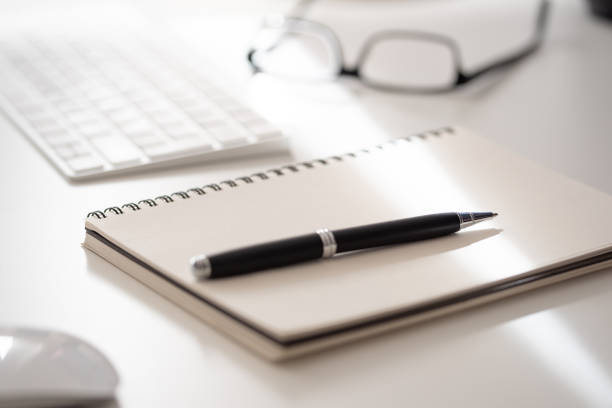pen: (175, 208, 505, 281)
